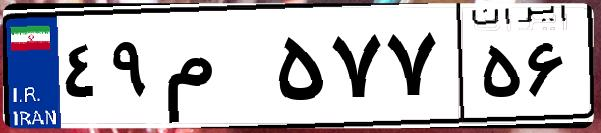4: (57, 26, 110, 100)
5: (270, 28, 330, 110), (475, 38, 525, 113)
6: (525, 38, 570, 115)
7: (385, 28, 445, 110), (330, 28, 385, 110)
9: (110, 28, 158, 98)
م: (158, 20, 270, 120)
